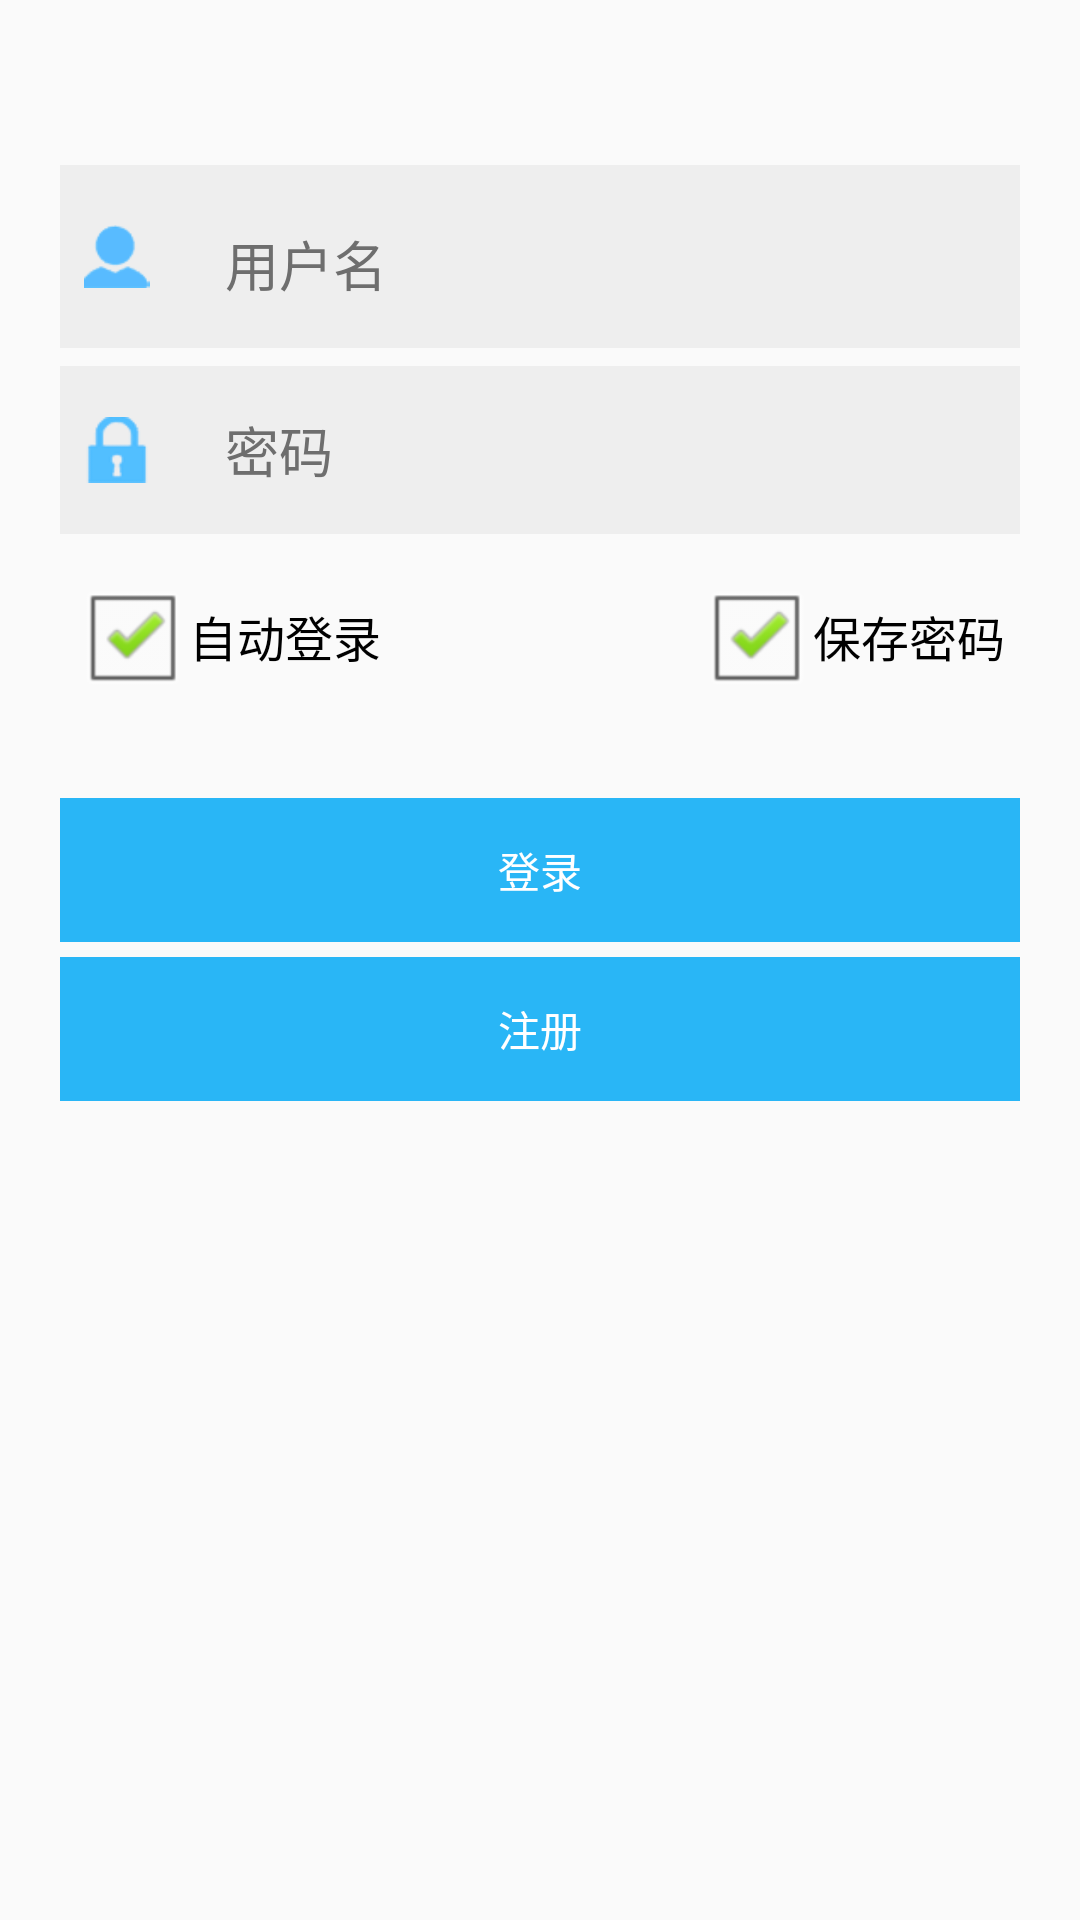

Icon bounding boxes for this 1080x1920 phone screenshot, format (x1,y1,x2,y2):
login code in: (88,417,146,483)
login usr in: (84,225,150,288)
